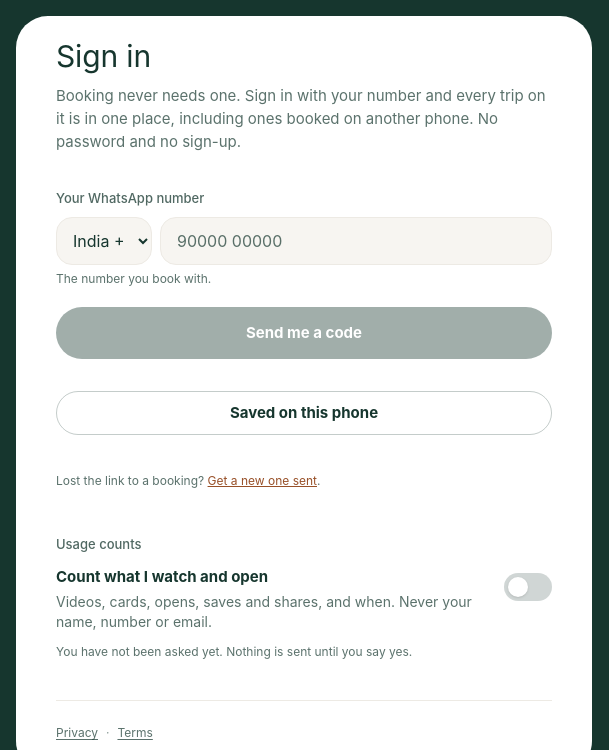
it: what it says when something goes wrong › offers a way on when it cannot reach us at all
The width and height of the screenshot is (609, 750).
Type "9000000000" into the field labelled "Your WhatsApp number". click: x=356, y=241
box: 160,217 -> 552,265
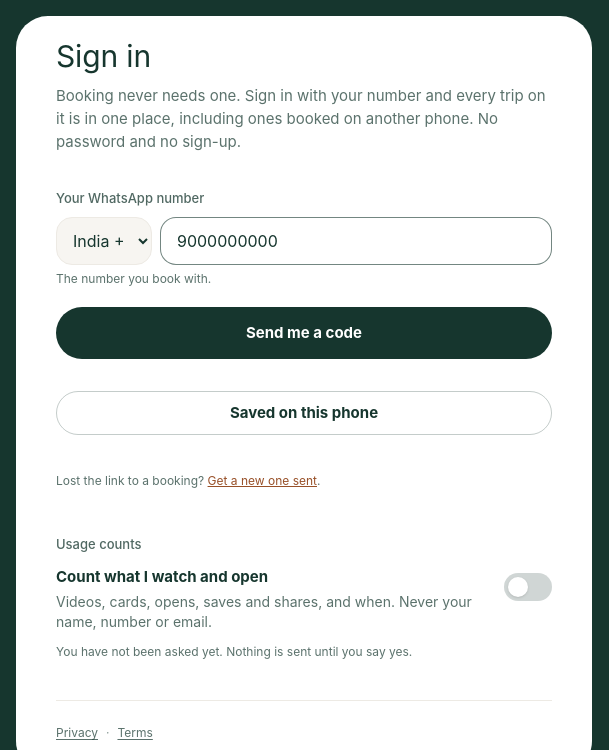
Click the button "Send me a code". click: x=304, y=333
box: 56,307 -> 552,359
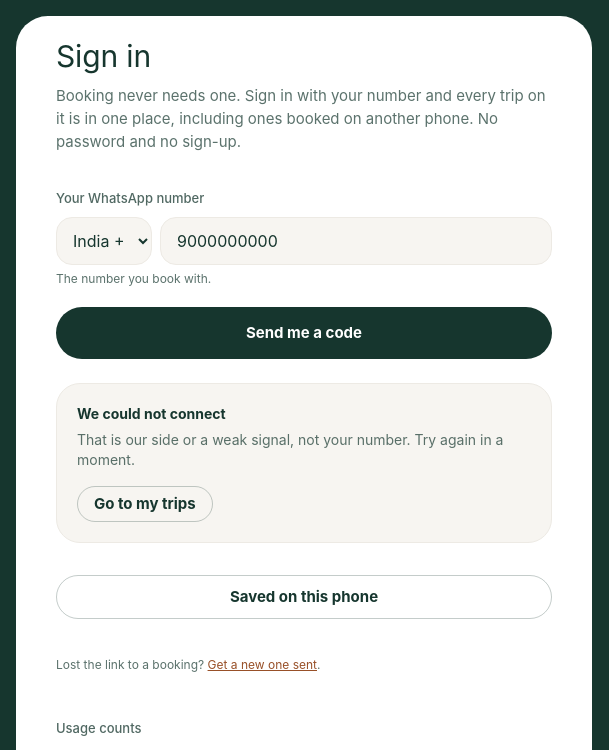
expect the text "We could not connect" is shown: met, box 77,405 -> 226,422
